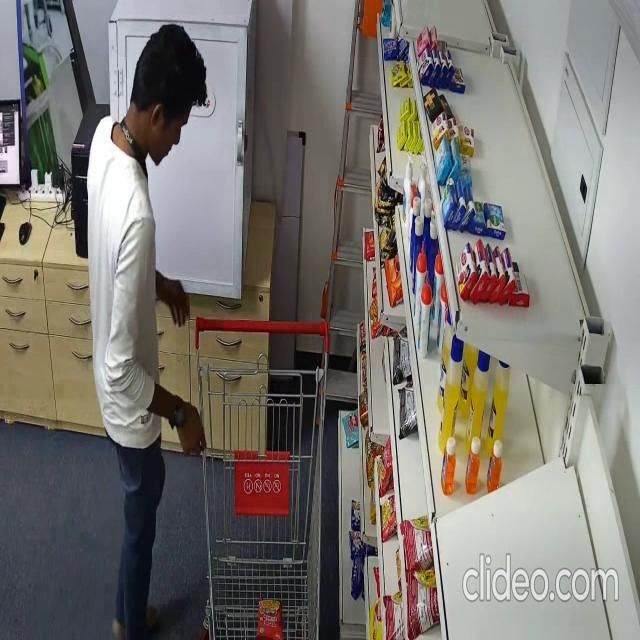normal: (87, 21, 210, 640)
